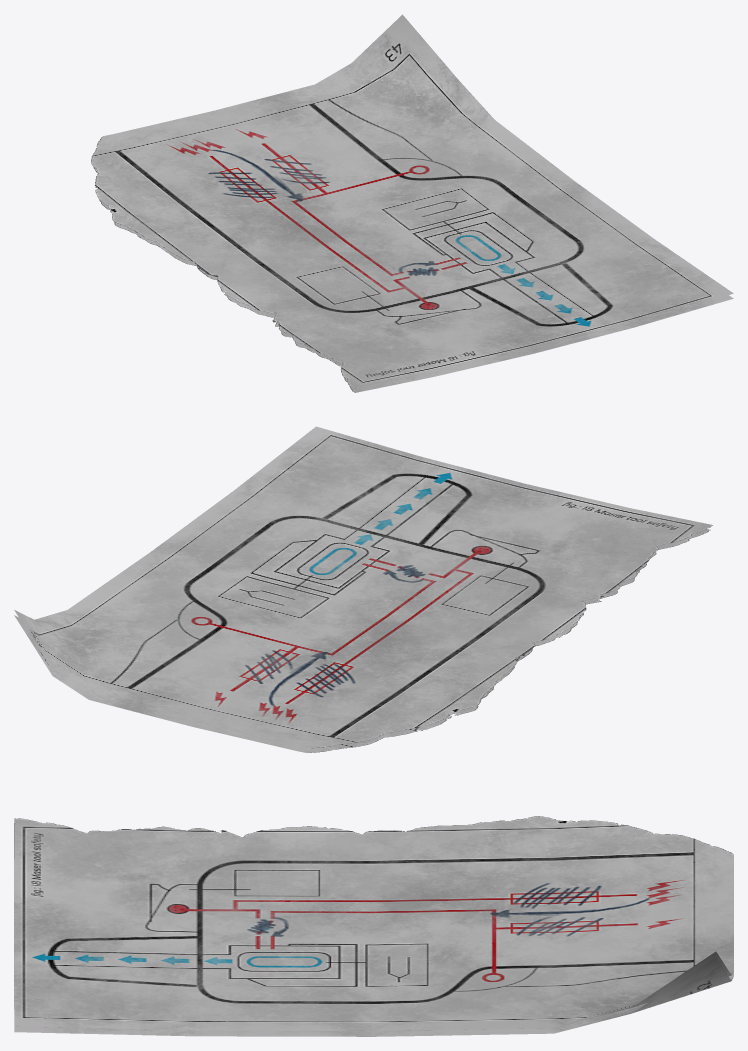
Rendered from 02_05_konrad_extra_maser_manual.dae.
3 renders of one model, top to bottom at view 1: azimuth 30°, elevation 25°; view 2: azimuth 150°, elevation 25°; view 3: azimuth 270°, elevation 25°, orthographic. The views are drawn at different scales.
Parts seen in each view (by area): view 1: polySurface5, polySurface6; view 2: polySurface5, polySurface6; view 3: polySurface5, polySurface6.
Boxes of the visible parts, bbox=[...] form: polySurface5: bbox=[91, 14, 733, 388]; polySurface6: bbox=[93, 166, 733, 392]; polySurface5: bbox=[14, 426, 712, 748]; polySurface6: bbox=[14, 529, 710, 752]; polySurface5: bbox=[14, 816, 733, 1030]; polySurface6: bbox=[14, 957, 733, 1036].
Size of the model in its own units: 25.36 by 4.48 by 34.91.
